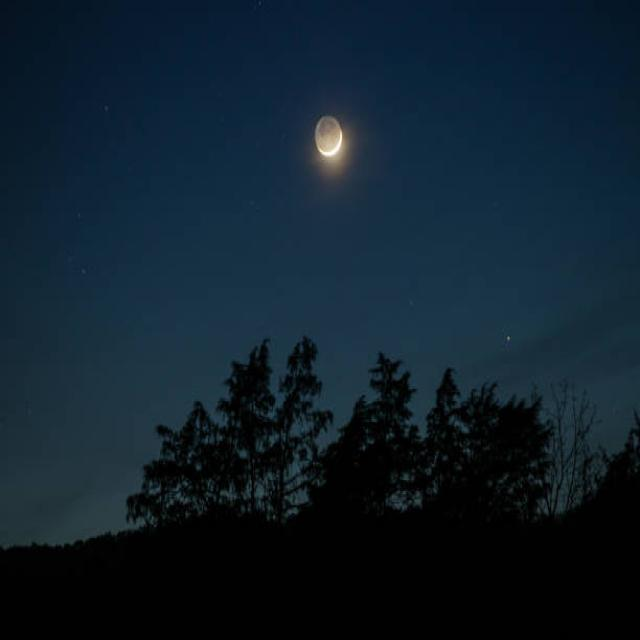moon: (313, 112, 343, 156)
